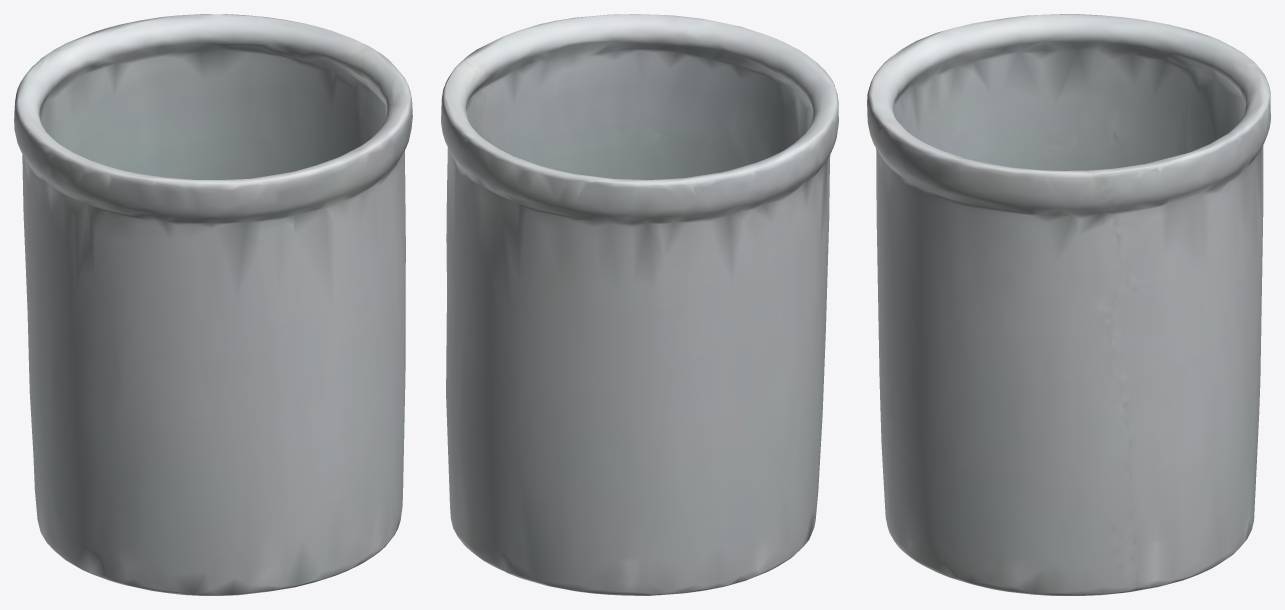
Rendered from BIA_Cordon_Bleu_White_Porcelain_Utensil_Holder_900028-high.glb.
3 views of the same model, side by side, from view 1: azimuth 30°, elevation 25°; view 2: azimuth 150°, elevation 25°; view 3: azimuth 270°, elevation 25° (orthographic).
Visible parts, largest first — view 1: BIA_Cordon_Bleu_White_Porcelain_Utensil_Holder_900028; view 2: BIA_Cordon_Bleu_White_Porcelain_Utensil_Holder_900028; view 3: BIA_Cordon_Bleu_White_Porcelain_Utensil_Holder_900028.
Part boxes in pixels (x1,y1,x2,y2): BIA_Cordon_Bleu_White_Porcelain_Utensil_Holder_900028: (14,14,412,595); BIA_Cordon_Bleu_White_Porcelain_Utensil_Holder_900028: (441,14,838,595); BIA_Cordon_Bleu_White_Porcelain_Utensil_Holder_900028: (867,14,1270,595).
Bounding box in the file's own units: 0.1475 × 0.1752 × 0.1486.
Materials: 1 (1 with a texture image).
